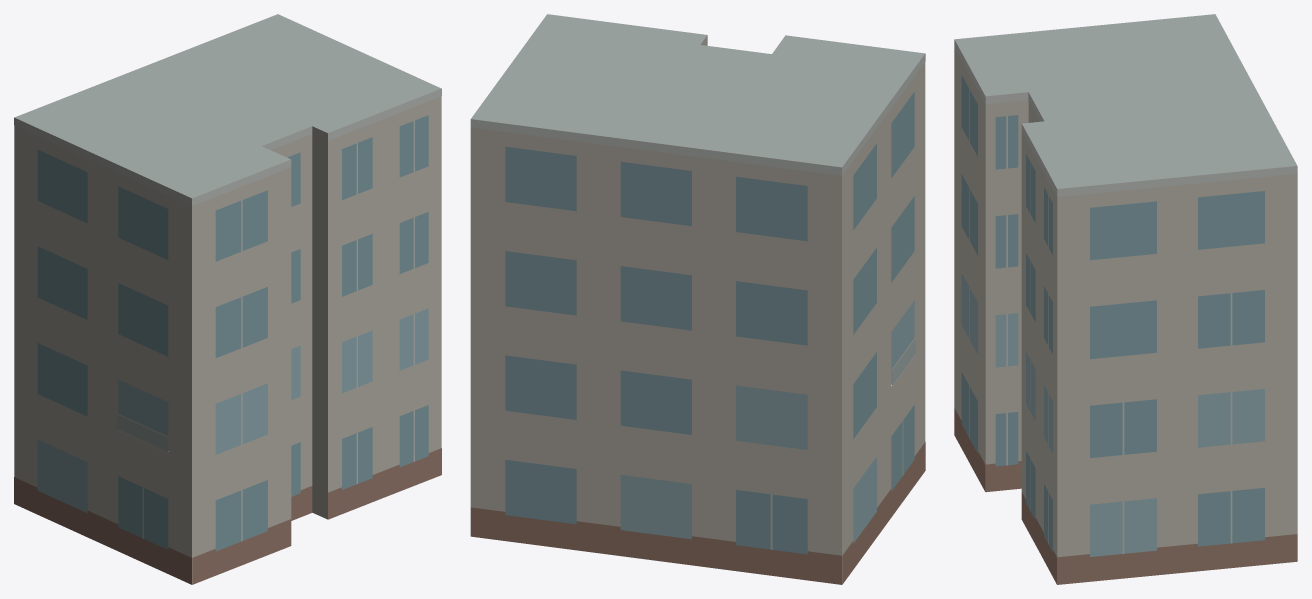
File: residential-42750985-37fe-4fe3-a713-8594546ae9df.glb
3 views of the same model, side by side, from view 1: azimuth 30°, elevation 25°; view 2: azimuth 150°, elevation 25°; view 3: azimuth 270°, elevation 25° (orthographic). The views are drawn at different scales.
Parts seen in each view (by area): view 1: residential-42750985-37fe-4fe3-a713-8594546ae9df.tmp; view 2: residential-42750985-37fe-4fe3-a713-8594546ae9df.tmp; view 3: residential-42750985-37fe-4fe3-a713-8594546ae9df.tmp.
Boxes of the visible parts, bbox=[...] form: residential-42750985-37fe-4fe3-a713-8594546ae9df.tmp: bbox=[14, 14, 441, 584]; residential-42750985-37fe-4fe3-a713-8594546ae9df.tmp: bbox=[470, 14, 925, 584]; residential-42750985-37fe-4fe3-a713-8594546ae9df.tmp: bbox=[954, 14, 1297, 584].
Size of the model in its own units: 11.58 by 12.2 by 9.6.
